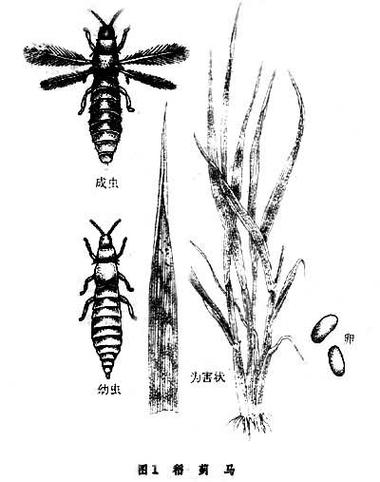Thripidae: (21, 10, 193, 165)
